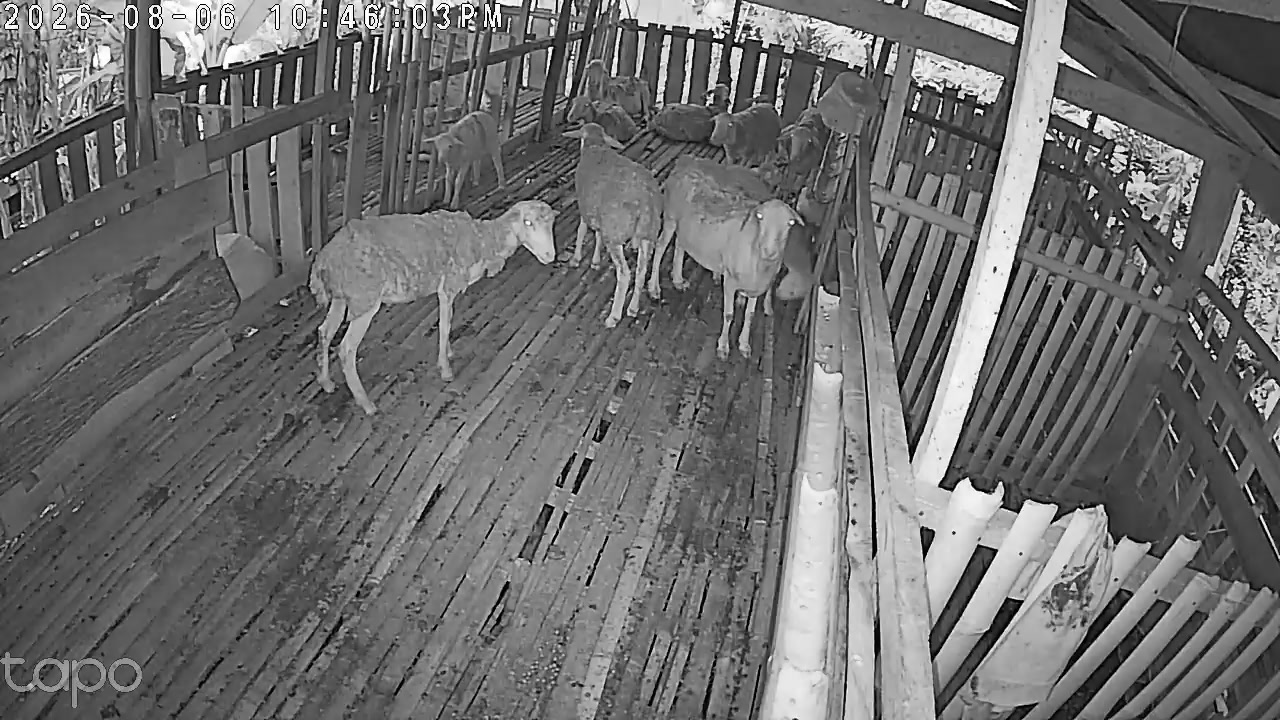sheep: (310, 191, 565, 421), (640, 145, 845, 330), (570, 120, 665, 335), (425, 110, 505, 205), (720, 100, 785, 170)
